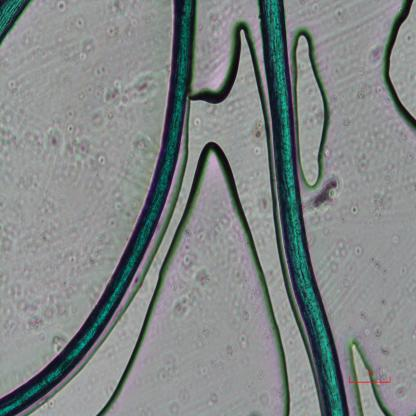Air bubble: (177, 135, 268, 278), (193, 11, 268, 126), (238, 270, 292, 414), (290, 28, 332, 188), (138, 214, 190, 338), (97, 332, 163, 414), (381, 0, 416, 135), (350, 340, 392, 416)
Background material: (15, 287, 67, 343), (174, 243, 216, 296), (58, 104, 89, 165), (105, 70, 160, 102), (372, 167, 402, 224), (105, 0, 141, 41), (119, 122, 152, 166), (302, 175, 340, 212), (233, 274, 261, 324), (386, 358, 416, 402), (198, 341, 234, 376), (57, 43, 96, 69), (84, 231, 106, 273), (107, 190, 126, 229), (331, 232, 349, 272), (159, 353, 179, 385), (252, 115, 263, 159), (5, 71, 22, 99), (45, 126, 62, 153), (367, 41, 385, 65), (173, 296, 191, 318), (353, 150, 370, 173), (370, 256, 387, 278), (355, 306, 371, 324), (335, 6, 350, 25), (353, 87, 367, 103), (75, 14, 88, 31), (238, 334, 250, 352), (56, 1, 68, 16), (354, 244, 364, 261), (349, 204, 361, 218), (371, 324, 383, 337), (98, 152, 108, 166), (358, 63, 365, 80), (392, 234, 401, 247), (342, 116, 349, 128)
Microfibre: (0, 0, 198, 415), (257, 0, 351, 415), (0, 0, 33, 48)
